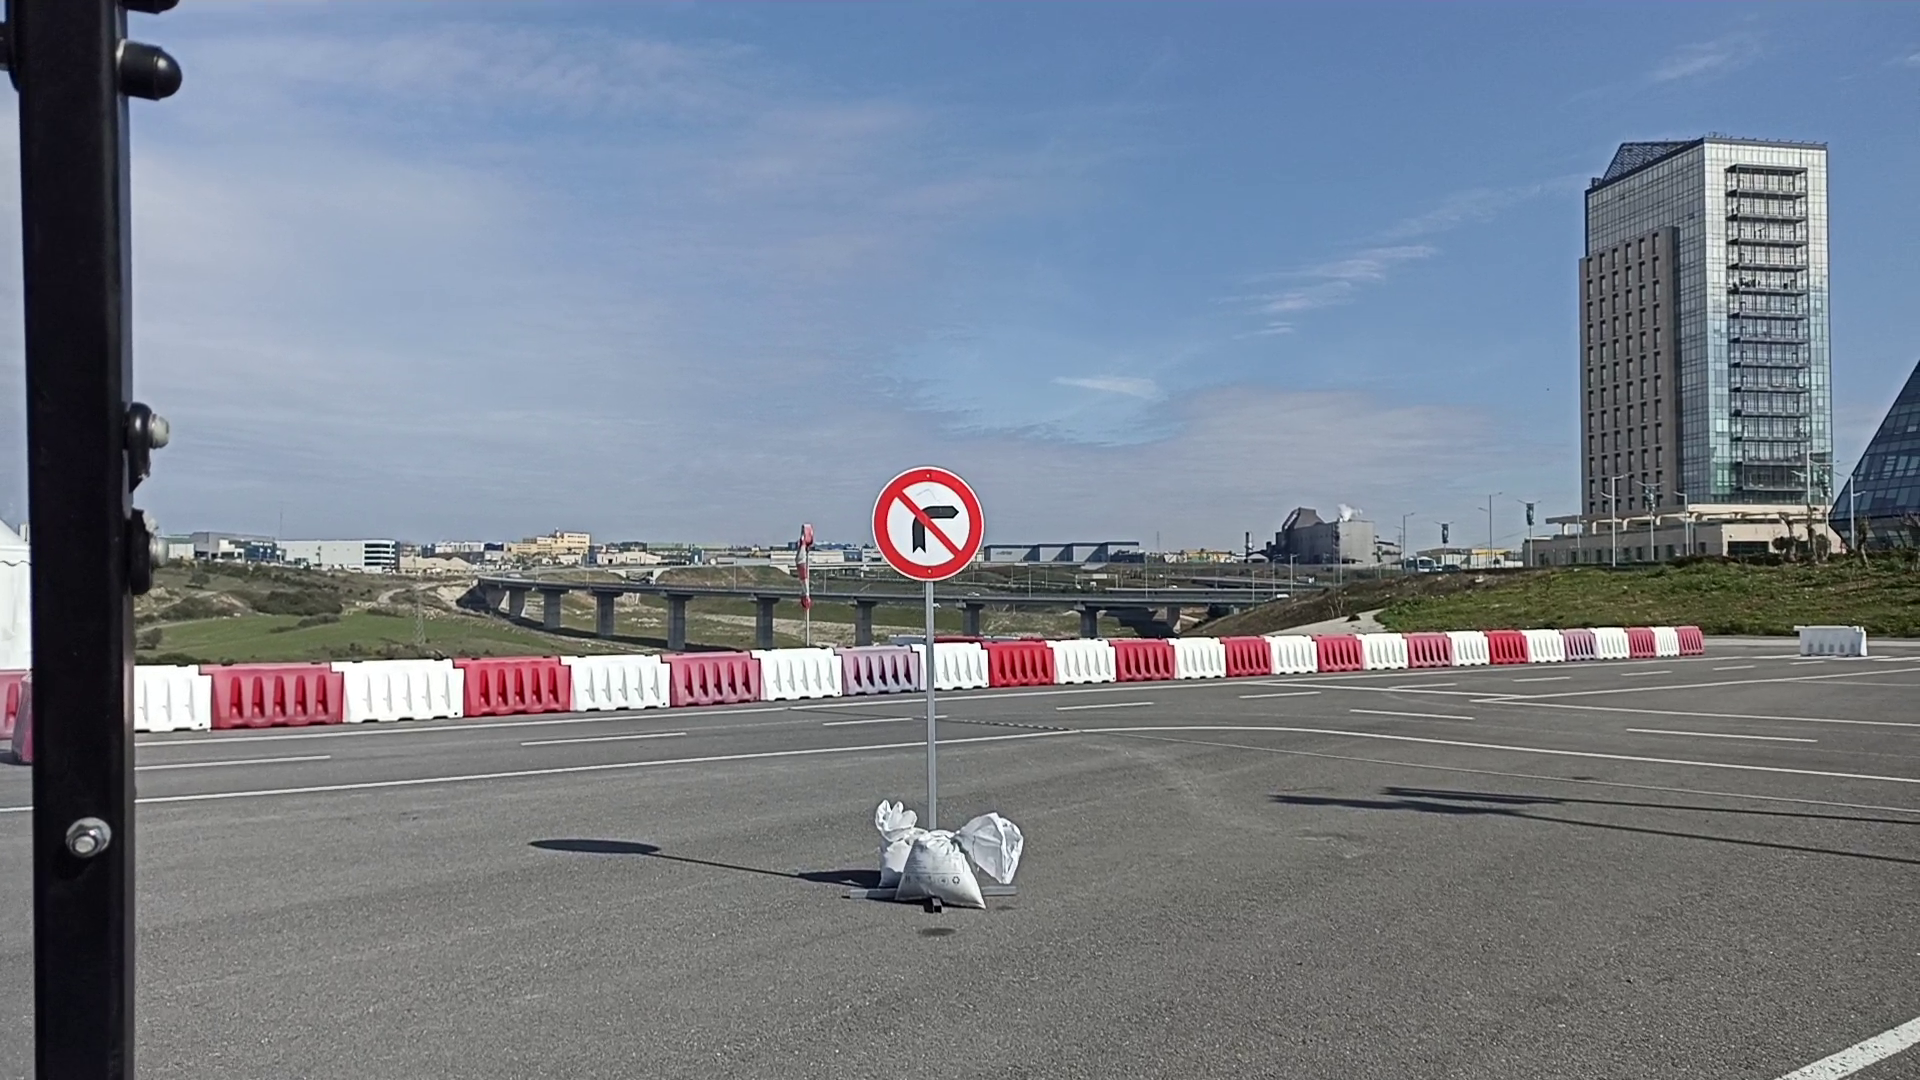noleftturn: (868, 462, 985, 584)
